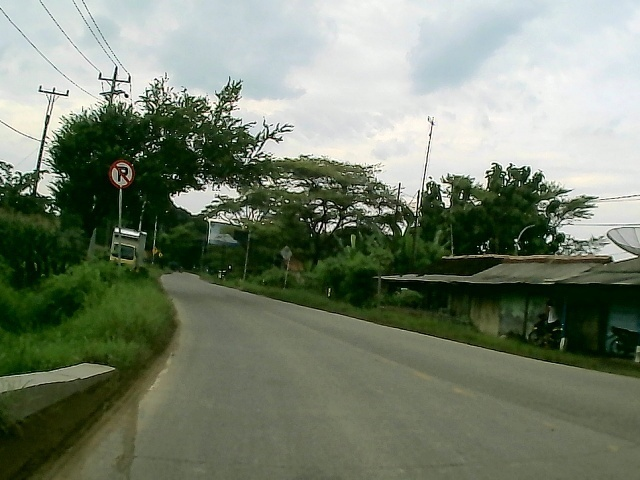Dilarang parkir: (105, 157, 137, 190)
